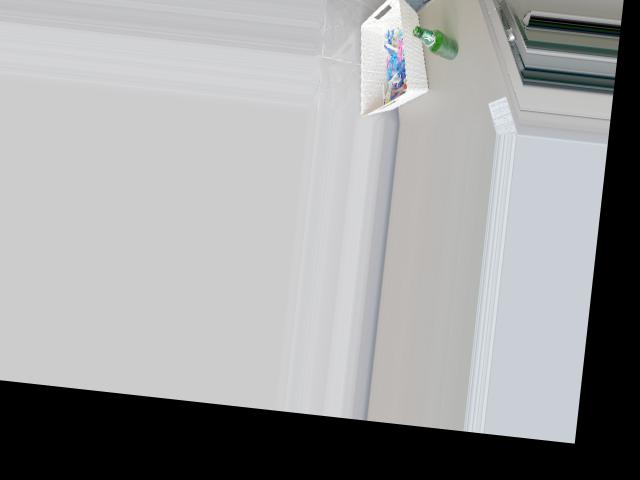beer: (410, 25, 460, 60)
